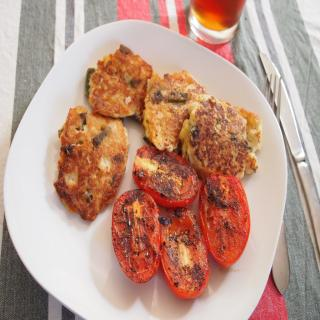tomato: (198, 173, 250, 267), (112, 189, 161, 285), (160, 206, 210, 298), (132, 144, 200, 207)
